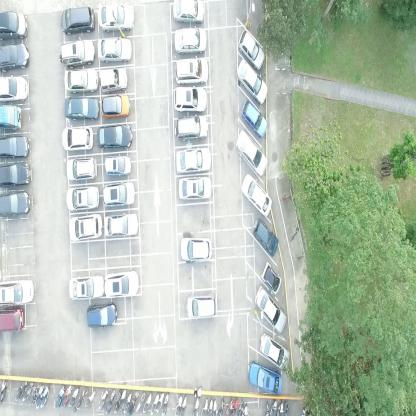car: (234, 128, 268, 176), (254, 284, 286, 333), (240, 173, 273, 218), (236, 59, 268, 105), (258, 330, 290, 371), (245, 360, 281, 395), (58, 38, 96, 68), (252, 218, 280, 257), (97, 3, 134, 32), (238, 30, 264, 71), (68, 211, 102, 242), (241, 99, 267, 138), (61, 5, 94, 35), (173, 27, 208, 55), (0, 278, 35, 306), (96, 37, 132, 64), (174, 147, 211, 173), (95, 124, 132, 150), (174, 57, 208, 85), (173, 85, 207, 113), (103, 272, 139, 298), (63, 96, 99, 122), (178, 236, 212, 262), (184, 293, 218, 319), (102, 180, 136, 206), (64, 68, 98, 94), (0, 44, 29, 74), (179, 176, 212, 202), (68, 275, 105, 298), (64, 156, 98, 181), (103, 213, 138, 237), (0, 188, 30, 216), (100, 93, 131, 120), (172, 0, 204, 26), (86, 302, 118, 328), (175, 115, 208, 140), (61, 125, 94, 150), (65, 187, 99, 211), (0, 11, 28, 40), (0, 161, 31, 187), (0, 75, 28, 103), (260, 261, 282, 294), (98, 67, 127, 92), (0, 136, 29, 159), (0, 307, 25, 333), (103, 154, 132, 175), (0, 106, 23, 132)
